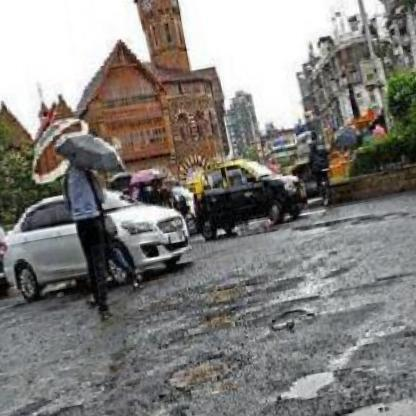pothole: (275, 378, 416, 416), (163, 344, 244, 395), (276, 359, 342, 403), (267, 300, 319, 330)
